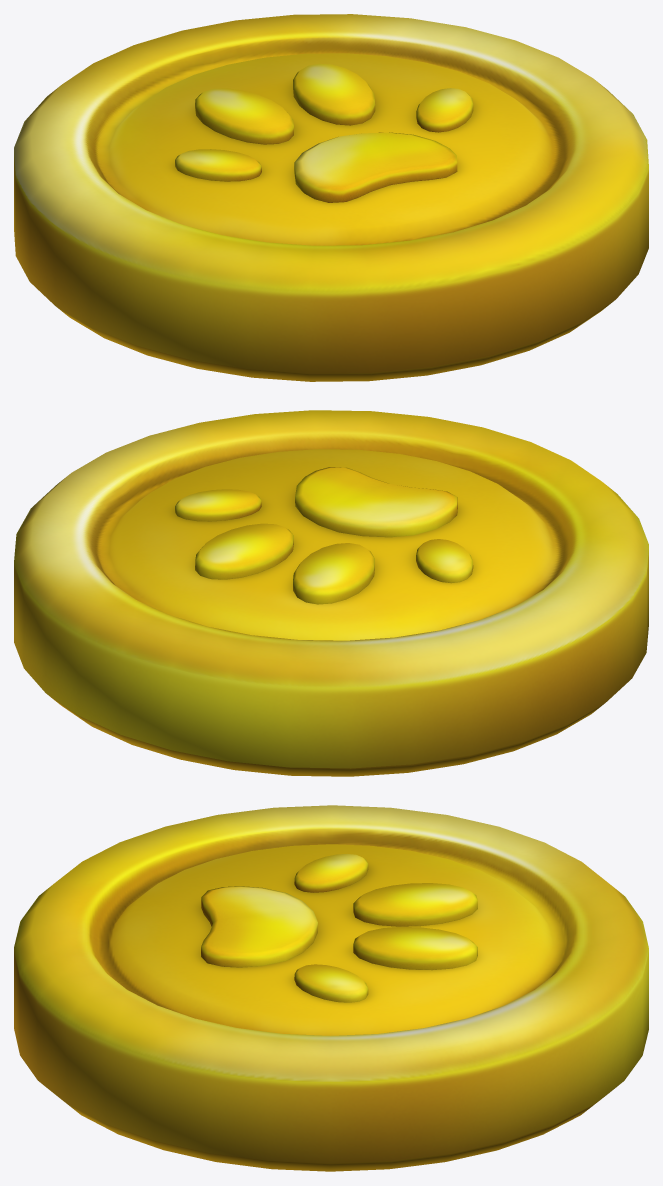
Rendered from gold.FBX.
3 views of the same model, one above another, from view 1: azimuth 30°, elevation 25°; view 2: azimuth 150°, elevation 25°; view 3: azimuth 270°, elevation 25° (orthographic).
Parts seen in each view (by area): view 1: gold_headusOBJexport; view 2: gold_headusOBJexport; view 3: gold_headusOBJexport.
Boxes of the visible parts, x1=… form: gold_headusOBJexport: x1=14, y1=14, x2=648, y2=381; gold_headusOBJexport: x1=14, y1=410, x2=648, y2=776; gold_headusOBJexport: x1=14, y1=805, x2=648, y2=1171.
Size of the model in its own units: 4.26 by 0.9323 by 4.26.
